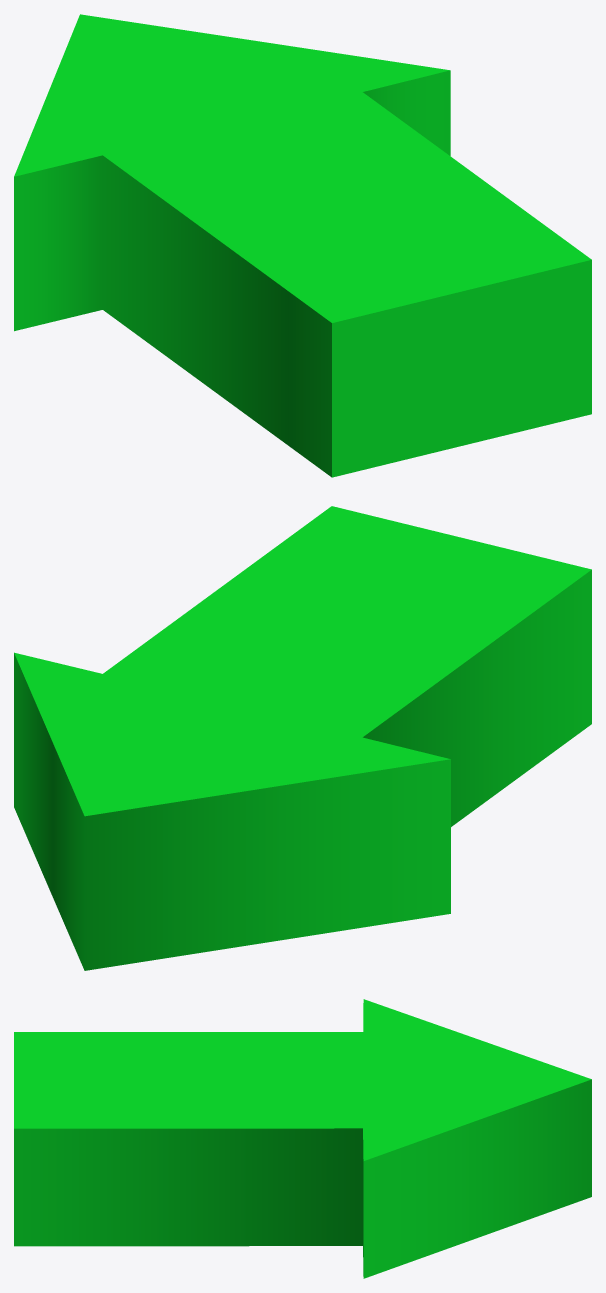
Rendered from arrow.glb.
The picture shows the model from 3 angles, top to bottom: view 1: azimuth 30°, elevation 25°; view 2: azimuth 150°, elevation 25°; view 3: azimuth 270°, elevation 25°; orthographic projection. The views are drawn at different scales.
Parts seen in each view (by area): view 1: uploads_files_1842272_arrow; view 2: uploads_files_1842272_arrow; view 3: uploads_files_1842272_arrow.
Boxes of the visible parts, <box> form: uploads_files_1842272_arrow: <box>14,14,591,477</box>; uploads_files_1842272_arrow: <box>14,506,591,970</box>; uploads_files_1842272_arrow: <box>14,999,591,1278</box>.
Bounding box in the file's own units: 50.52 × 17.08 × 76.05.
